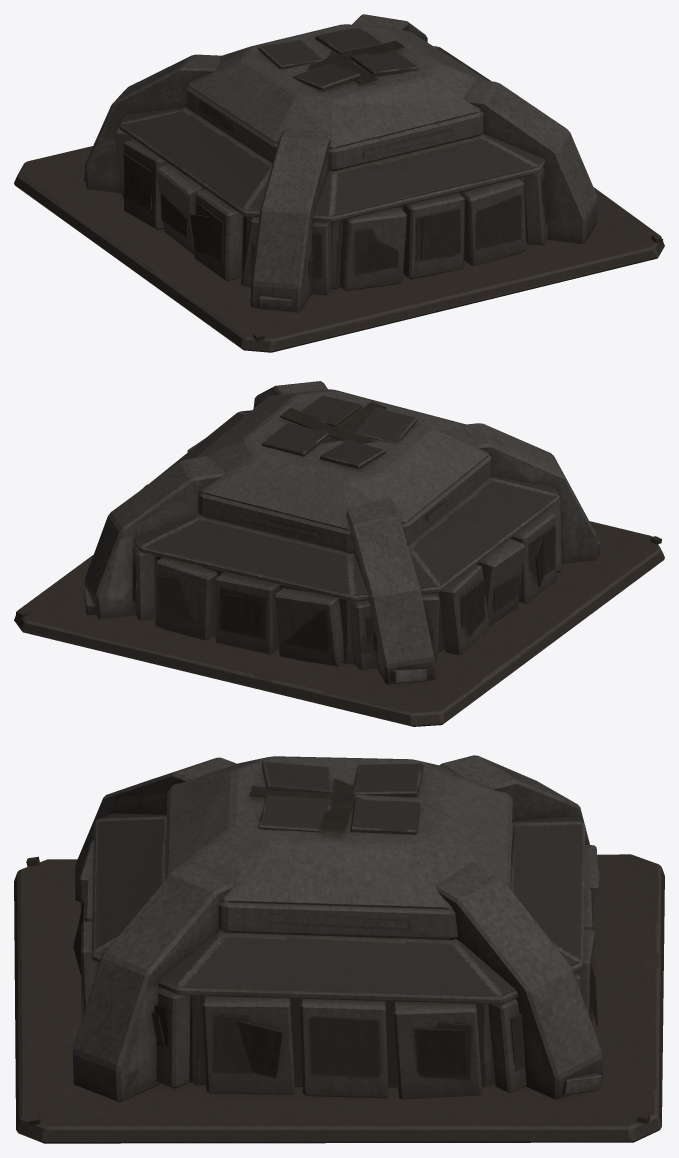
Rendered from chs_advaccumulator_wreck.fbx.
3 renders of one model, top to bottom at view 1: azimuth 30°, elevation 25°; view 2: azimuth 150°, elevation 25°; view 3: azimuth 270°, elevation 25°, orthographic. The views are drawn at different scales.
Visible parts, largest first — view 1: base_bar, cells_bar; view 2: base_bar, cells_bar; view 3: base_bar, cells_bar.
Part boxes in pixels (<box>): base_bar: <box>14,14,664,352</box>; cells_bar: <box>124,27,454,273</box>; base_bar: <box>14,381,664,726</box>; cells_bar: <box>131,395,563,644</box>; base_bar: <box>14,755,664,1143</box>; cells_bar: <box>73,761,594,1078</box>.
Size of the model in its own units: 2347 by 1064 by 2342.
Materials: 2 (2 with a texture image).
